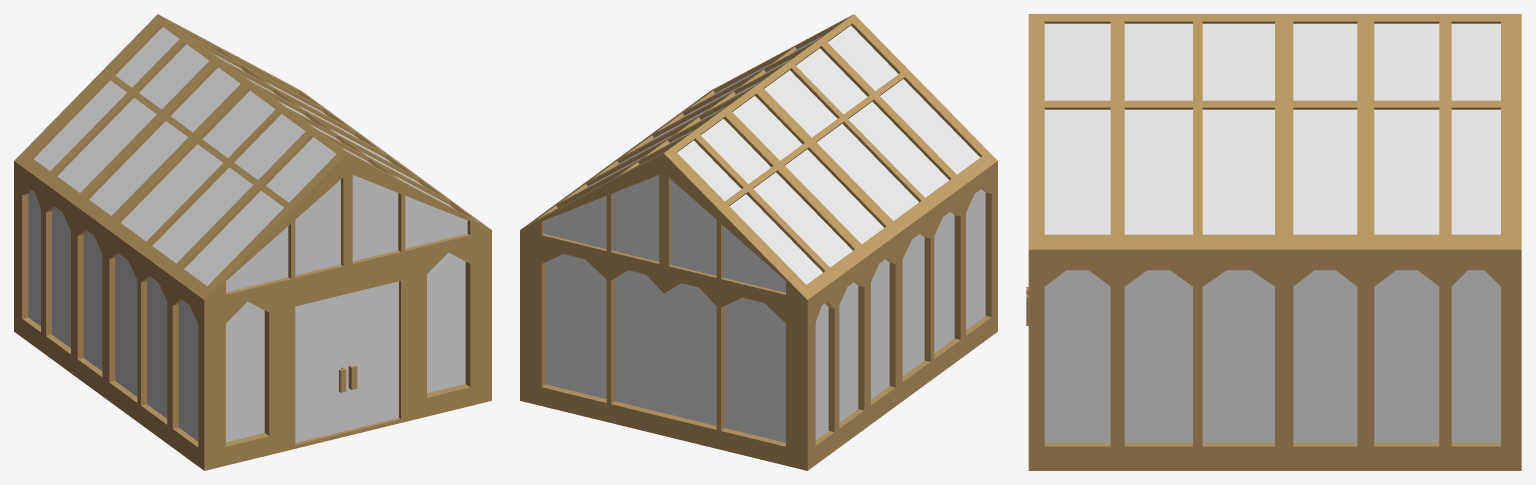
Rendered from greenhouse.fbx.
The picture shows the model from 3 angles, left to right: view 1: azimuth 30°, elevation 25°; view 2: azimuth 150°, elevation 25°; view 3: azimuth 270°, elevation 25°; orthographic projection. The views are drawn at different scales.
Parts seen in each view (by area): view 1: Cube; view 2: Cube; view 3: Cube.
Part boxes in pixels (x1,y1,x2,y2): Cube: (14,14,491,470); Cube: (520,14,997,470); Cube: (1026,14,1521,470).
Bounding box in the file's own units: 2994 × 2813 × 3449.
